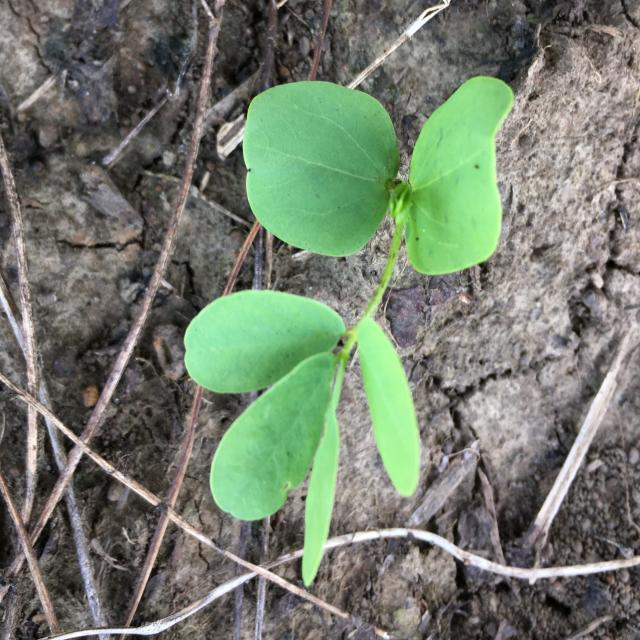Sicklepod: (184, 77, 513, 588)
